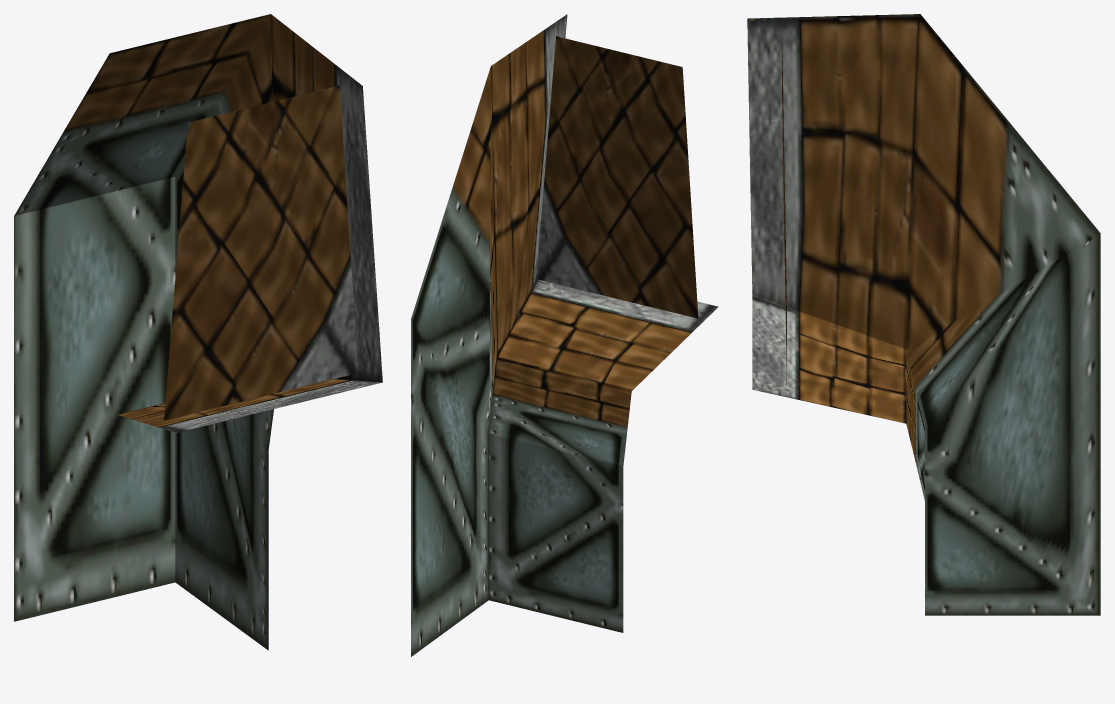
The model's file is Belüftungsanlage_Schacht_501.glb.
The picture shows the model from 3 angles, left to right: view 1: azimuth 30°, elevation 25°; view 2: azimuth 150°, elevation 25°; view 3: azimuth 270°, elevation 25°; orthographic projection. The views are drawn at different scales.
Visible parts, largest first — view 1: pCylinderShape340, pCylinderShape341; view 2: pCylinderShape340, pCylinderShape341; view 3: pCylinderShape340, pCylinderShape341.
Boxes of the visible parts, left/top/right/bottom form: pCylinderShape340: left=14, top=14, right=382, bottom=650; pCylinderShape341: left=164, top=85, right=358, bottom=420; pCylinderShape340: left=411, top=14, right=718, bottom=656; pCylinderShape341: left=536, top=36, right=698, bottom=318; pCylinderShape340: left=747, top=14, right=1100, bottom=615; pCylinderShape341: left=782, top=34, right=786, bottom=385.
Bounding box in the file's own units: 0.0964 × 0.2843 × 0.1513.
Materials: 2 (2 with a texture image).
